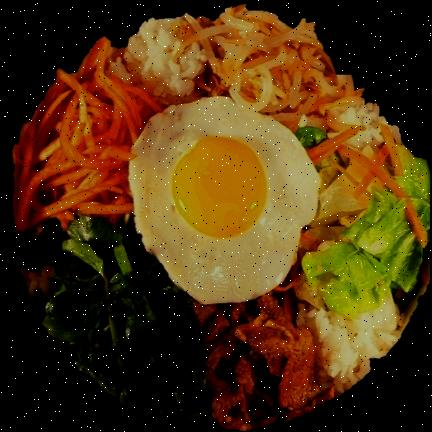carrot: (14, 39, 166, 235)
chicken: (194, 291, 338, 421)
egg: (132, 98, 319, 303)
green_vegetables: (43, 215, 212, 417)
rice: (289, 274, 412, 392), (125, 15, 215, 101)
salad: (293, 124, 431, 318)
